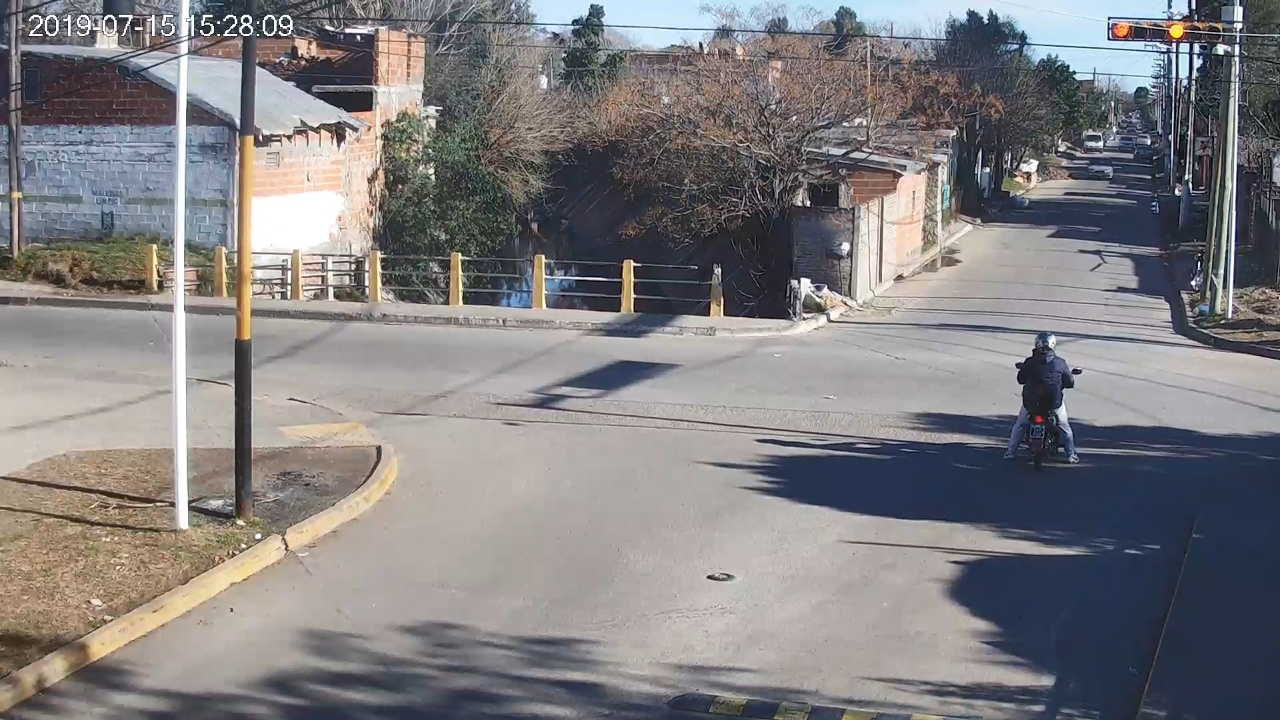motorcycle: (1004, 361, 1083, 470)
traffic light: (1112, 21, 1222, 41)
